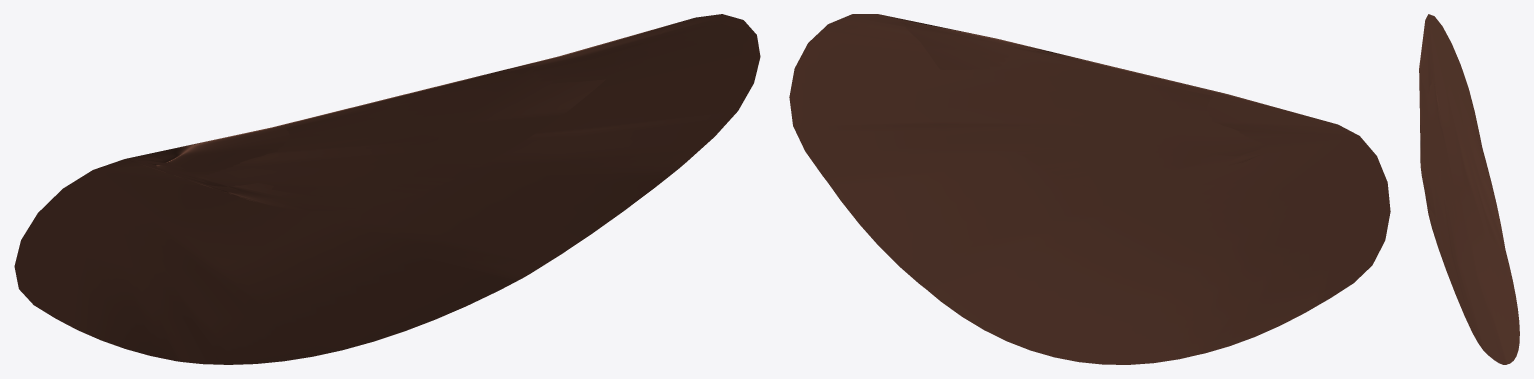
File: mouth_shy.glb
3 views of the same model, side by side, from view 1: azimuth 30°, elevation 25°; view 2: azimuth 150°, elevation 25°; view 3: azimuth 270°, elevation 25° (orthographic). The views are drawn at different scales.
Parts seen in each view (by area): view 1: Cat_mouth_shy.001; view 2: Cat_mouth_shy.001; view 3: Cat_mouth_shy.001.
Part boxes in pixels (<box>): Cat_mouth_shy.001: <box>14,14,760,364</box>; Cat_mouth_shy.001: <box>789,14,1390,364</box>; Cat_mouth_shy.001: <box>1419,14,1519,364</box>.
Size of the model in its own units: 0.0207 by 0.0083 by 0.00352.
